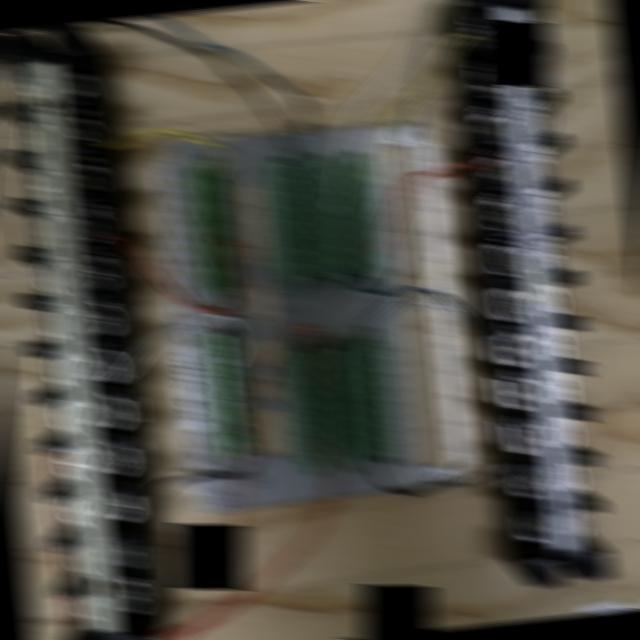Flathead_Block: (0, 25, 147, 640)
Phillips_Block: (465, 0, 612, 586)
Terminal_1: (202, 331, 251, 459), (186, 162, 234, 292)
Terminal_2: (285, 348, 330, 470), (321, 345, 366, 467), (340, 156, 385, 276), (265, 160, 309, 282), (302, 157, 346, 278)
